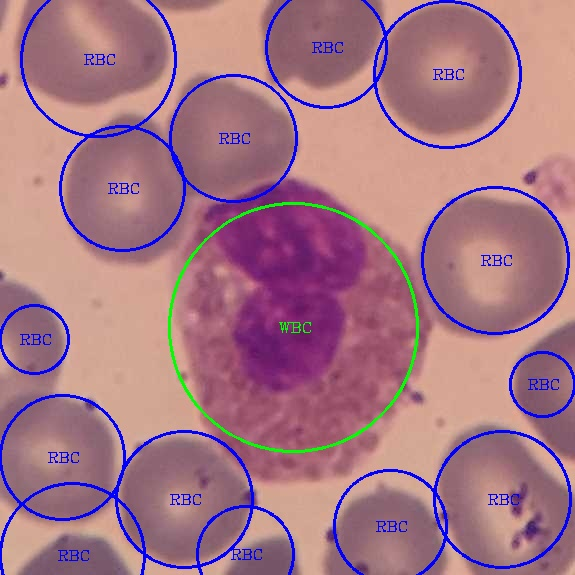RBC: (416, 189, 568, 341), (436, 420, 573, 571), (61, 106, 184, 272), (377, 0, 516, 139), (118, 431, 257, 567), (166, 71, 302, 209), (15, 1, 174, 108), (0, 387, 118, 529), (320, 480, 451, 573), (261, 1, 386, 92), (0, 267, 67, 434), (510, 312, 573, 471)
WBC: (178, 168, 437, 492)
